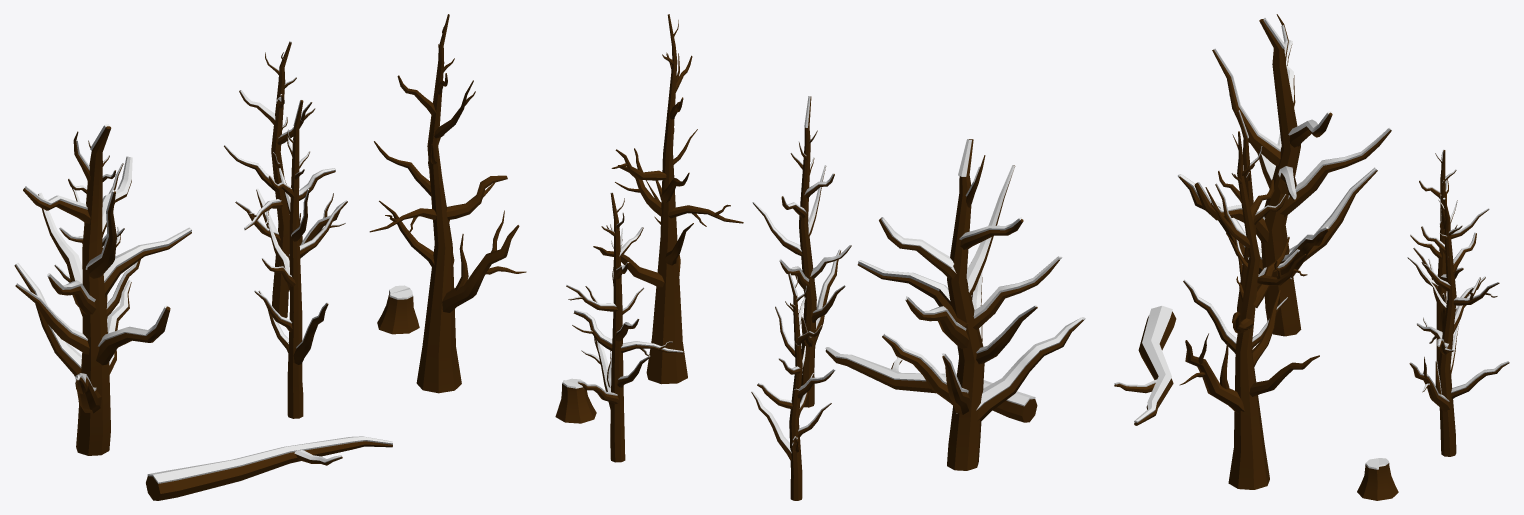
Rendered from Dead Trees With Snow.glb.
3 views of the same model, side by side, from view 1: azimuth 30°, elevation 25°; view 2: azimuth 150°, elevation 25°; view 3: azimuth 270°, elevation 25° (orthographic). The views are drawn at different scales.
Parts seen in each view (by area): view 1: Dead_tree_1, Father_tree, polySurface70, Dead_tree_3, Dead_branch, Tree_stump, Dead_tree_2; view 2: Dead_tree_1, Father_tree, Dead_tree_3, polySurface70, Dead_tree_2, Dead_branch, Tree_stump; view 3: Dead_tree_1, Father_tree, Dead_tree_3, Dead_branch, polySurface70, Dead_tree_2, Tree_stump.
Part boxes in pixels (x1,y1,x2,y2): Dead_tree_1: (14,124,191,455); Father_tree: (369,14,526,393); polySurface70: (254,99,347,418); Dead_tree_3: (224,41,347,317); Dead_branch: (146,436,392,500); Tree_stump: (377,285,419,334); Dead_tree_2: (54,140,140,318); Dead_tree_1: (857,139,1085,470); Father_tree: (593,14,743,384); Dead_tree_3: (566,192,683,462); polySurface70: (752,96,851,407); Dead_tree_2: (751,273,835,500); Dead_branch: (825,347,1037,422); Tree_stump: (555,378,596,423); Dead_tree_1: (1178,14,1391,336); Father_tree: (1179,131,1319,489); Dead_tree_3: (1409,197,1509,456); Dead_branch: (1114,306,1176,425); polySurface70: (1183,110,1299,353); Dead_tree_2: (1407,149,1489,368); Tree_stump: (1357,458,1398,500).
Bounding box in the file's own units: 0.1921 × 0.1478 × 0.15.
